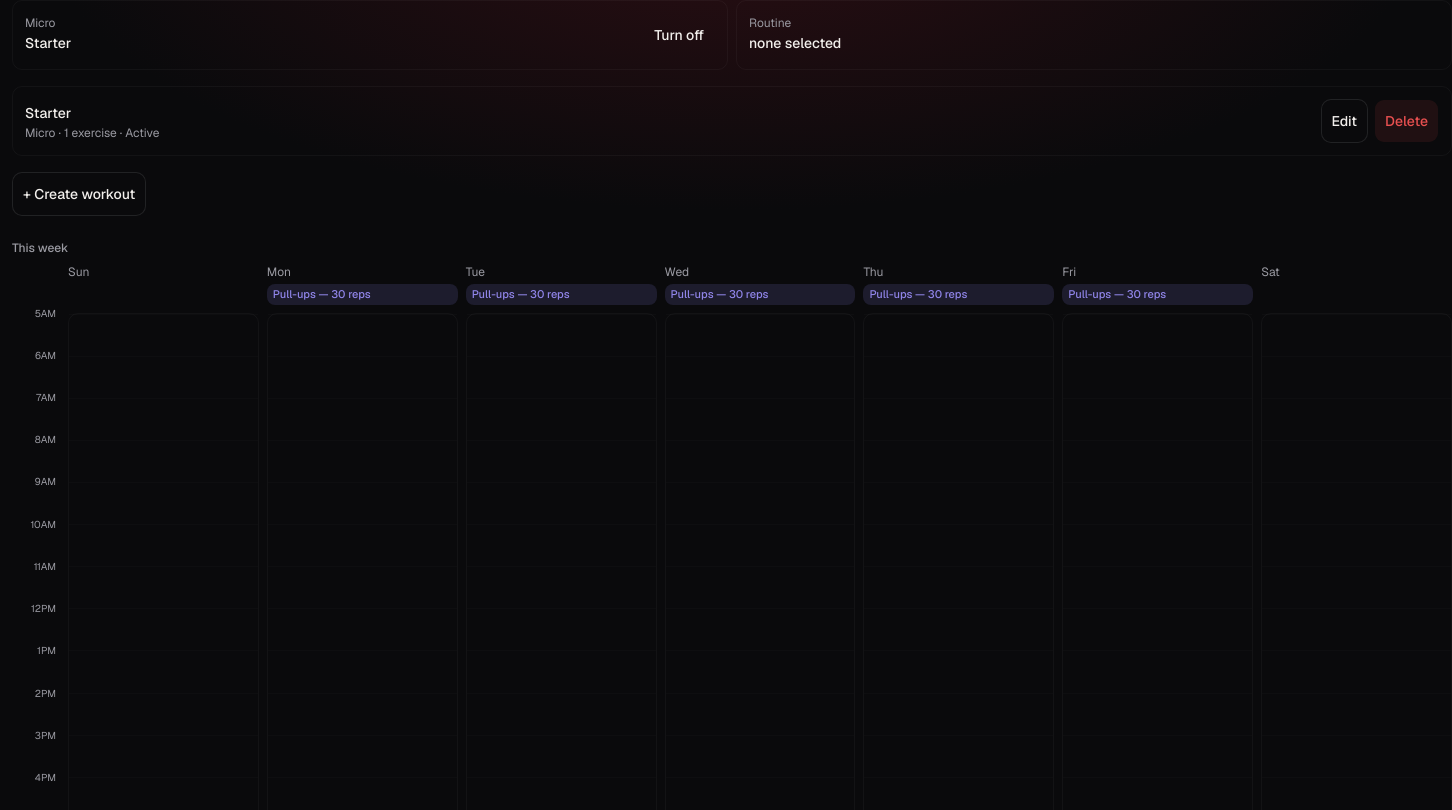
it: PlanWorkoutsClient › deleting the active plan warns it's the active plan, then clears the slot on confirm
Click the button "Delete".
click(1406, 121)  # box [1374,99,1439,143]
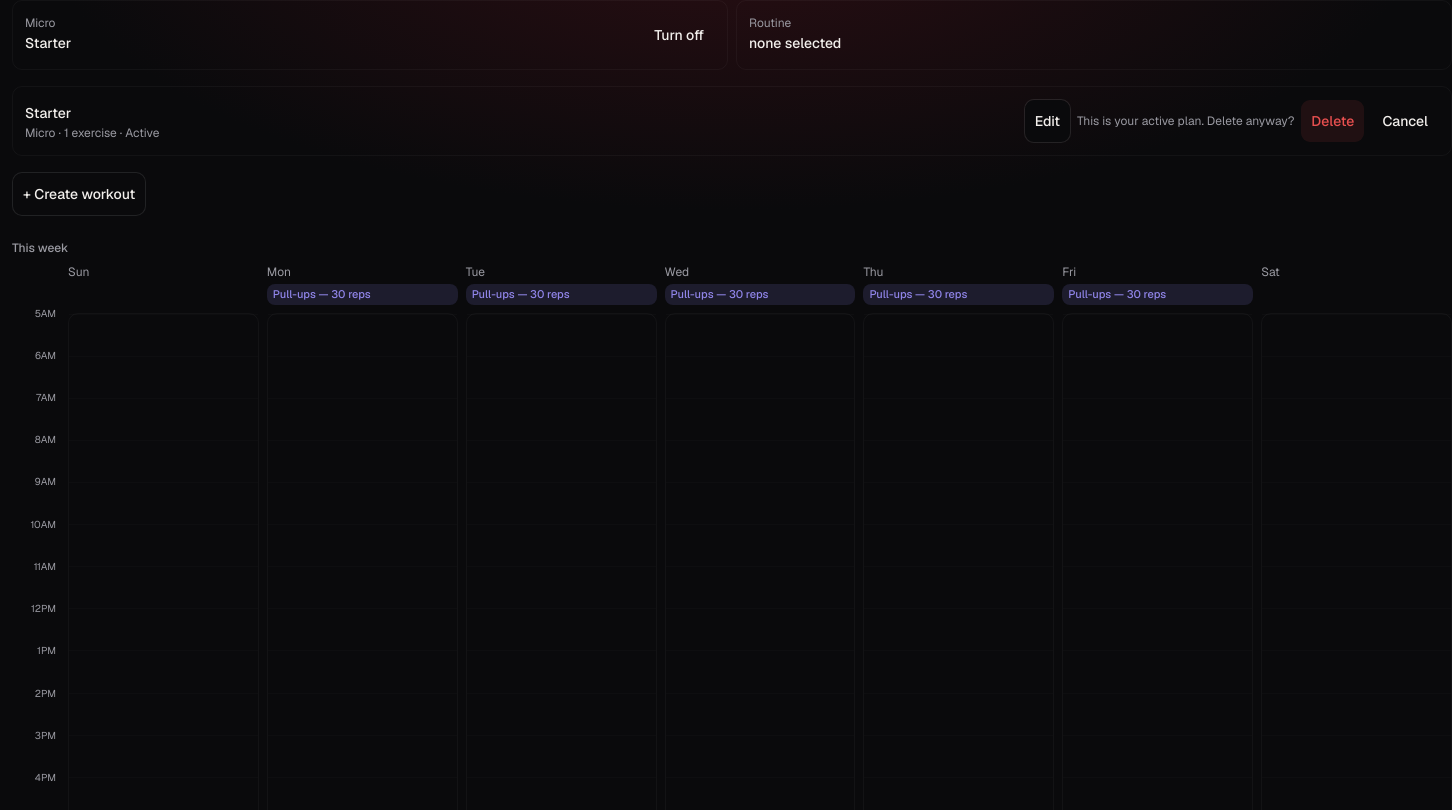
Check: the text "This is your active plan. Delete anyway?" is shown, box [1077,113,1294,129]
Click the button "Delete".
click(1333, 121)  # box [1300,99,1366,143]
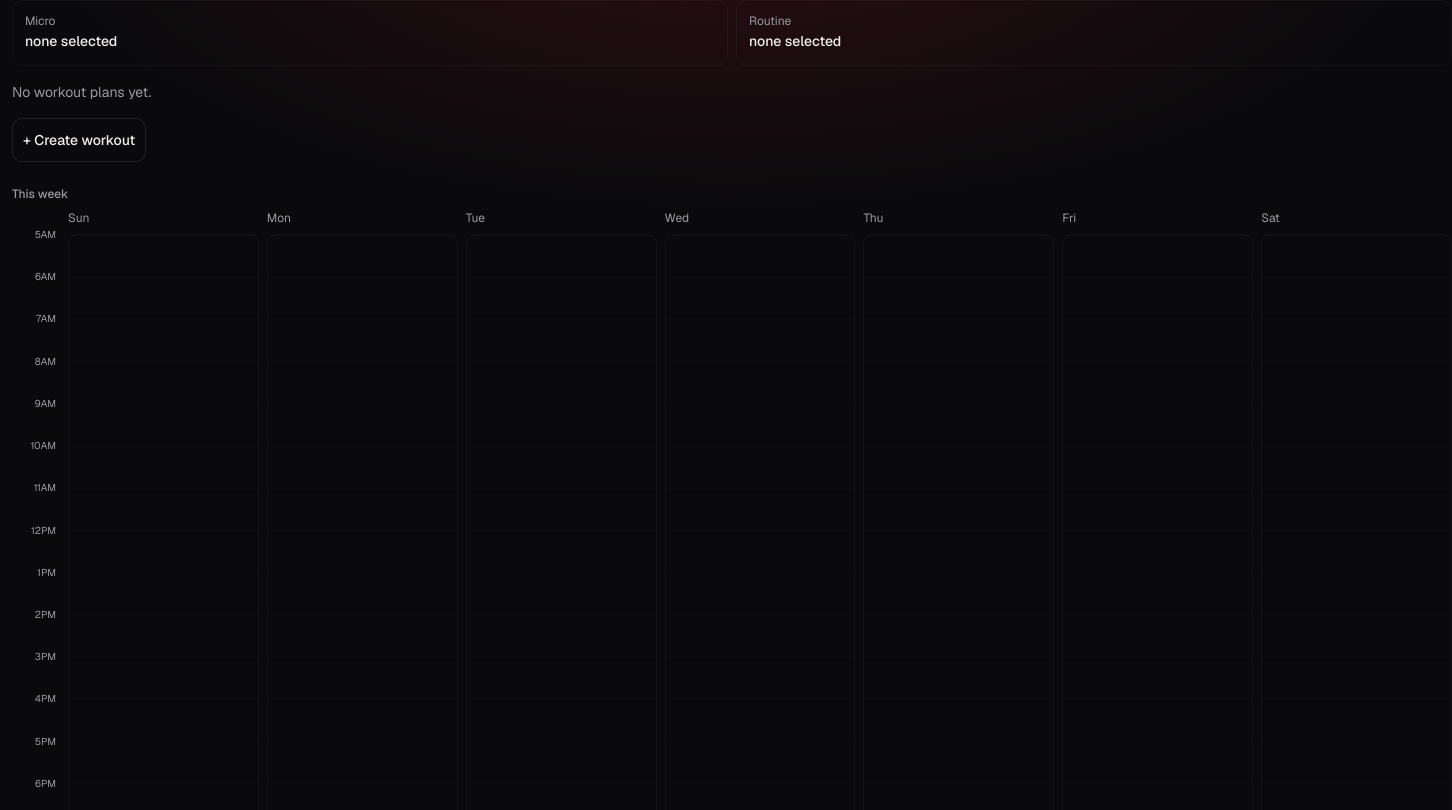
Check: the element with test id "active-slot-micro" shows "none selected", box [25,32,117,50]
